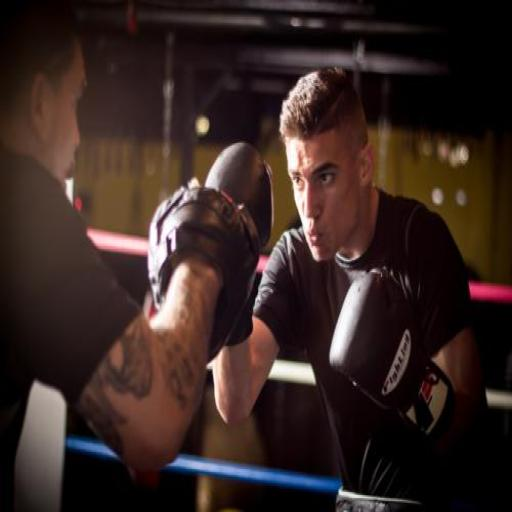boxing: (209, 64, 490, 510)
